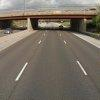Bridge: (3, 5, 92, 40)
